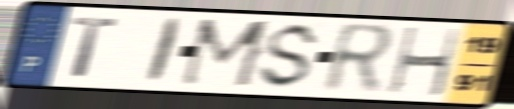H: (386, 25, 463, 99)
I: (142, 16, 187, 86)
M: (176, 17, 276, 91)
R: (319, 21, 399, 96)
S: (254, 21, 325, 92)
T: (69, 15, 121, 80)
